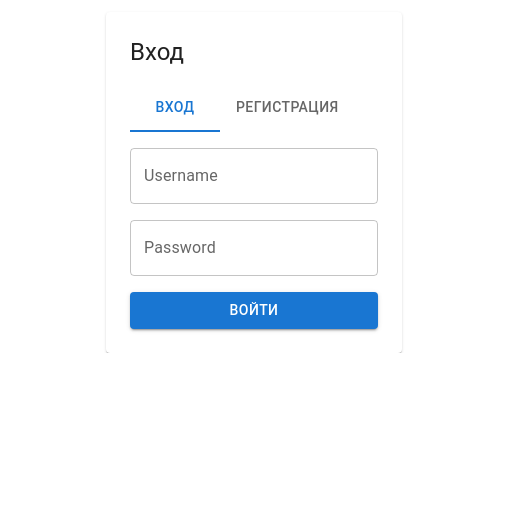
Test: AuthForm › register error: shows error message
Click the tab "Регистрация".
click(287, 108)  # box [220,84,354,132]
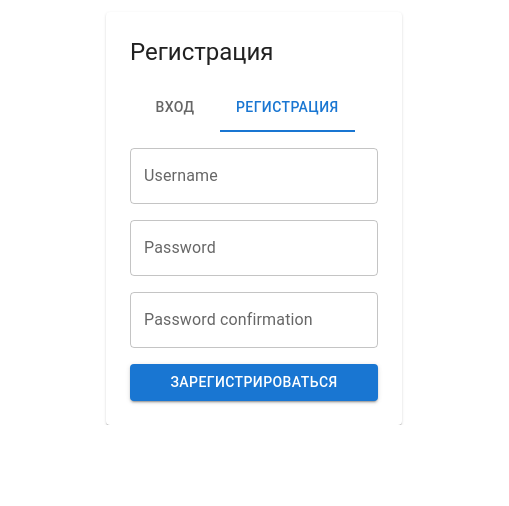
Type "user12345" into the field labelled "Username".
click(254, 176); type("user12345")  # box [130,148,378,204]
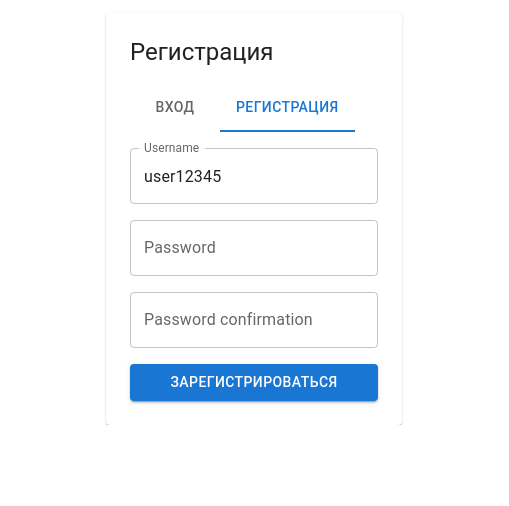
Type "Password1" into the password field labelled "Password".
click(254, 248); type("Password1")  # box [130,220,378,276]
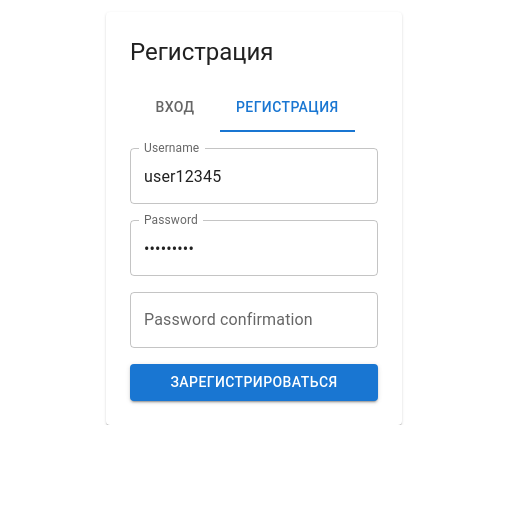
Type "Password1" into the password field labelled "Password confirmation".
click(254, 320); type("Password1")  # box [130,292,378,348]
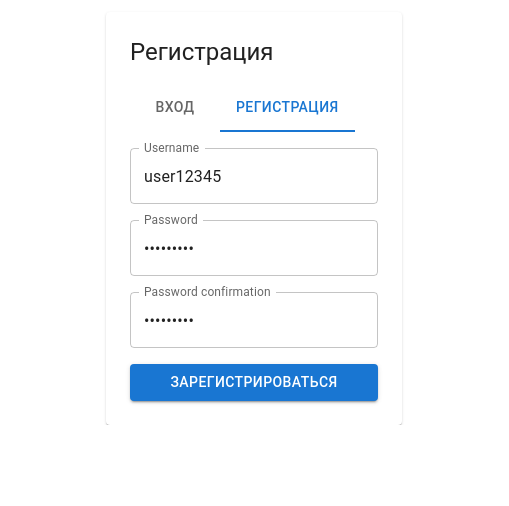
Click the button "Зарегистрироваться".
click(254, 382)  # box [130,364,378,400]
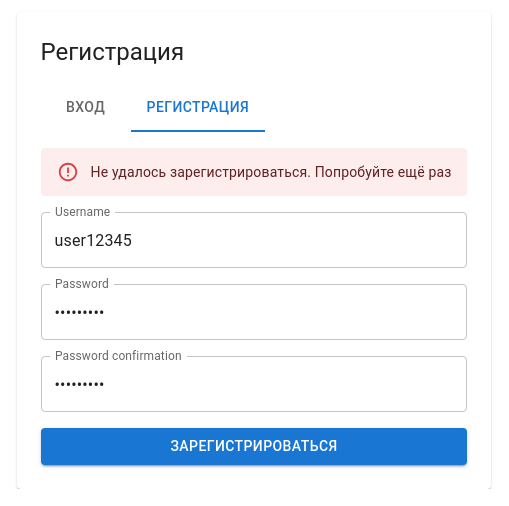
Result: the text "Не удалось зарегистрироваться. Попробуйте ещё раз" is shown at [91,164,452,180]
